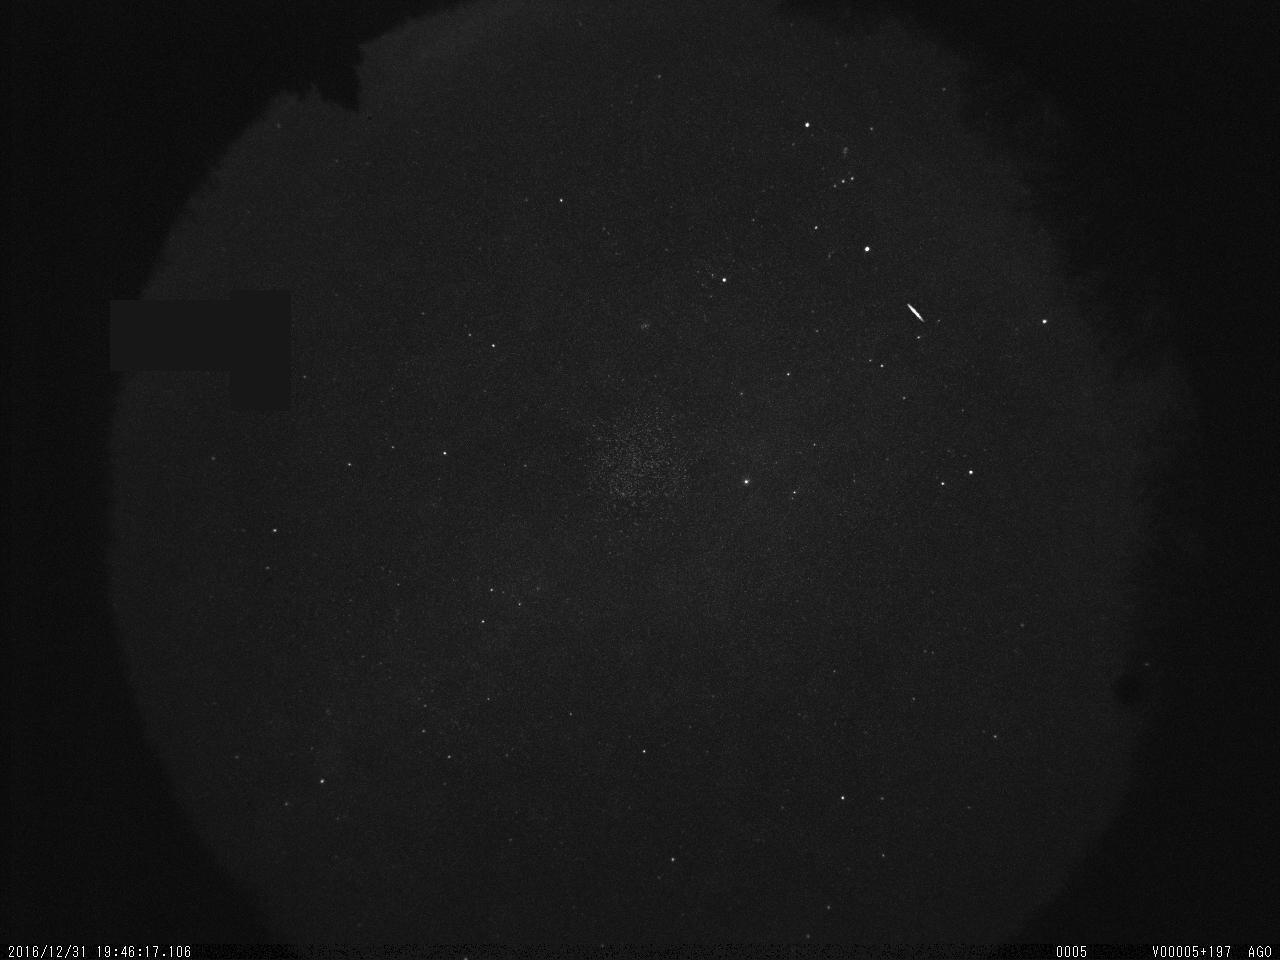meteor: (883, 289, 955, 334)
